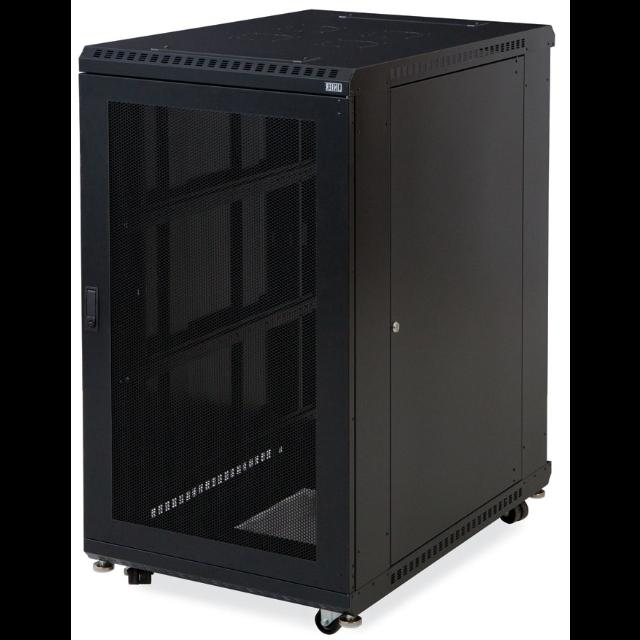Server: (73, 6, 569, 640)
